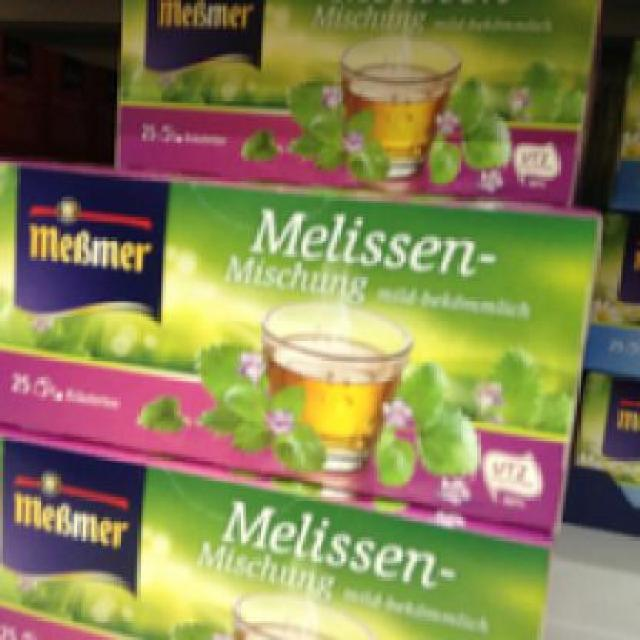Tea: (0, 157, 597, 526), (0, 427, 555, 638), (106, 0, 600, 200)
